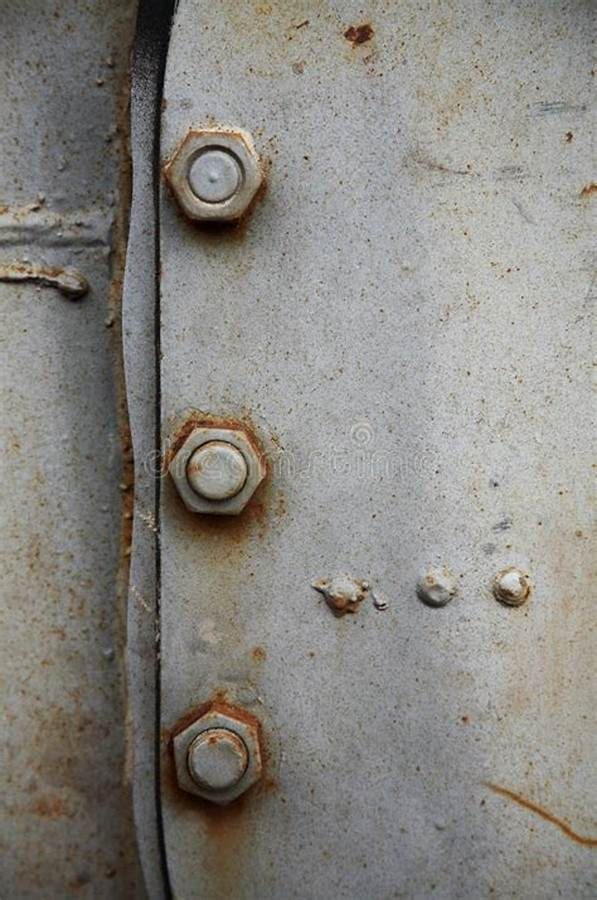bolt_b: (157, 125, 266, 227), (168, 701, 267, 810), (163, 423, 267, 523)
